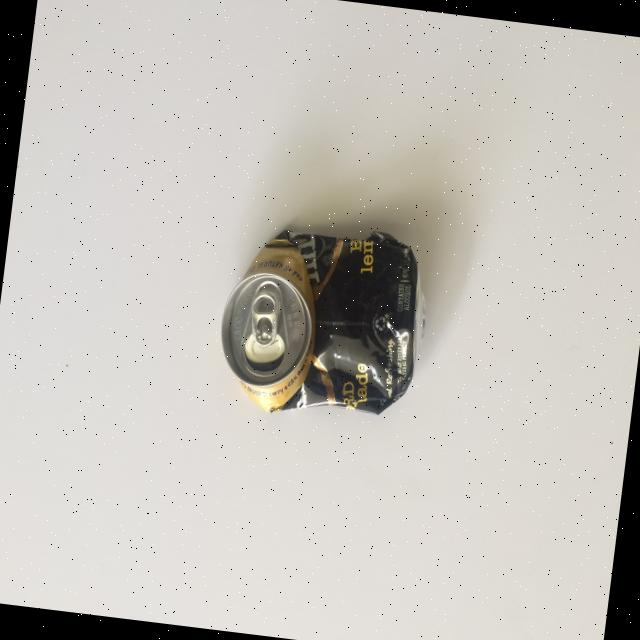metal: (210, 212, 438, 431)
